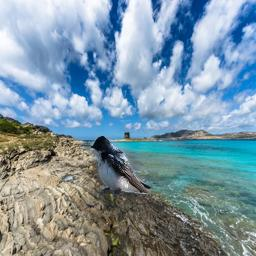Swallow: (90, 136, 151, 194)
